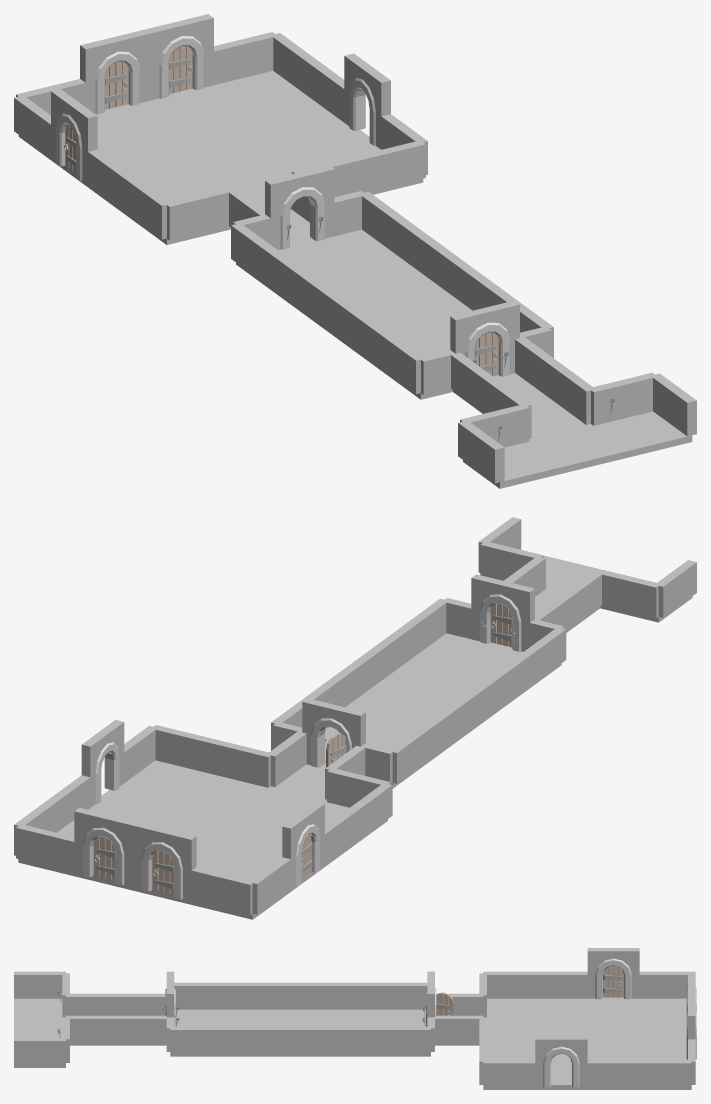
File: DungeonTest.fbx
3 renders of one model, top to bottom at view 1: azimuth 30°, elevation 25°; view 2: azimuth 150°, elevation 25°; view 3: azimuth 270°, elevation 25°, orthographic. The views are drawn at different scales.
Visible parts, largest first — view 1: FloorNormal.143; view 2: FloorNormal.143; view 3: FloorNormal.143.
Part boxes in pixels (bbox=[...]): FloorNormal.143: bbox=[14, 14, 696, 488]; FloorNormal.143: bbox=[14, 517, 696, 919]; FloorNormal.143: bbox=[14, 948, 696, 1089].
Bounding box in the file's own units: 0.84 × 0.22 × 2.62.
